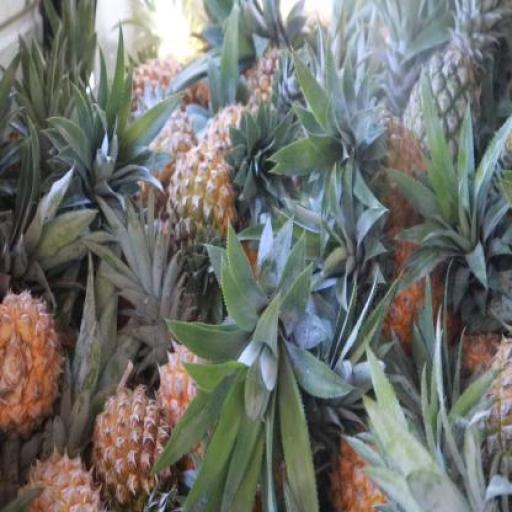------------------------------: (165, 140, 233, 274)
Pineapple - v8 v1: (91, 387, 167, 510), (0, 291, 65, 429)
